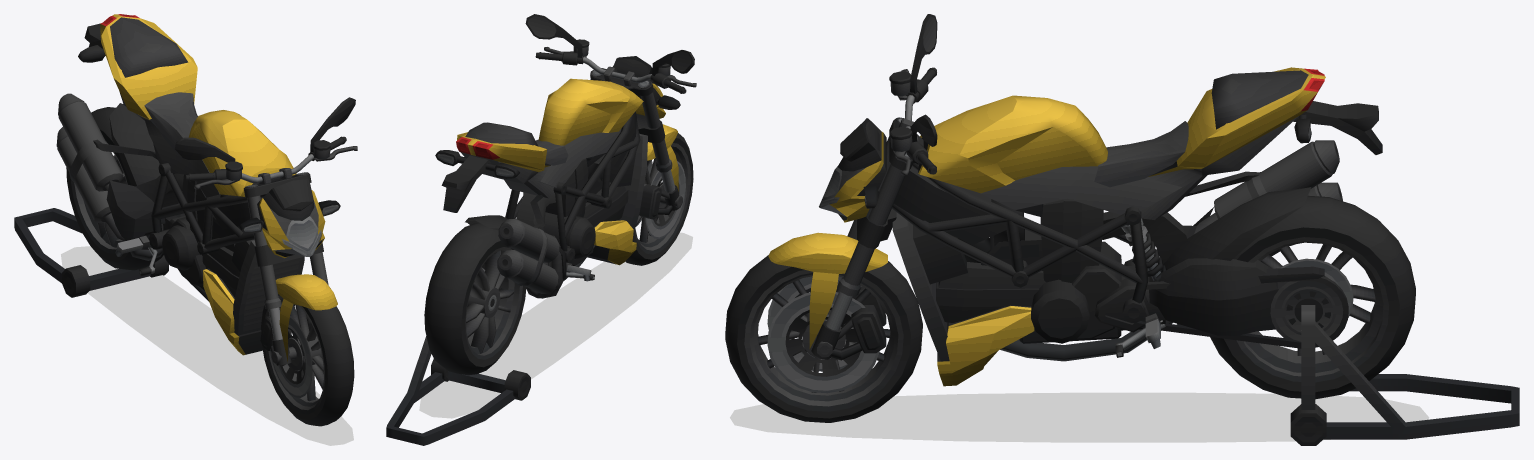
3 renders of one model, left to right at view 1: azimuth 30°, elevation 25°; view 2: azimuth 150°, elevation 25°; view 3: azimuth 270°, elevation 25°, orthographic. The views are drawn at different scales.
Parts seen in each view (by area): view 1: Cylinder.010, Cylinder.002, Shadow, Cylinder, PaddockStand, Cylinder.001; view 2: Cylinder.010, Shadow, Cylinder.001, Cylinder.002, PaddockStand, Cylinder; view 3: Cylinder.010, Shadow, Cylinder.001, Cylinder, Cylinder.002, PaddockStand.
Part boxes in pixels (x1=…): Cylinder.010: x1=56, y1=14, x2=304, y2=355; Cylinder.002: x1=174, y1=97, x2=357, y2=365; Shadow: x1=61, y1=246, x2=353, y2=445; Cylinder: x1=261, y1=294, x2=354, y2=426; PaddockStand: x1=14, y1=208, x2=168, y2=297; Cylinder.001: x1=66, y1=107, x2=163, y2=270; Cylinder.010: x1=435, y1=78, x2=647, y2=298; Shadow: x1=419, y1=232, x2=692, y2=418; Cylinder.001: x1=424, y1=222, x2=526, y2=375; Cylinder.002: x1=525, y1=14, x2=696, y2=219; PaddockStand: x1=386, y1=336, x2=530, y2=445; Cylinder: x1=625, y1=133, x2=693, y2=265; Cylinder.010: x1=892, y1=67, x2=1382, y2=386; Shadow: x1=730, y1=392, x2=1429, y2=442; Cylinder.001: x1=1210, y1=195, x2=1415, y2=399; Cylinder: x1=725, y1=255, x2=922, y2=422; Cylinder.002: x1=768, y1=14, x2=937, y2=360; PaddockStand: x1=1290, y1=305, x2=1519, y2=445.
Size of the model in its own units: 82.17 by 119 by 241.
